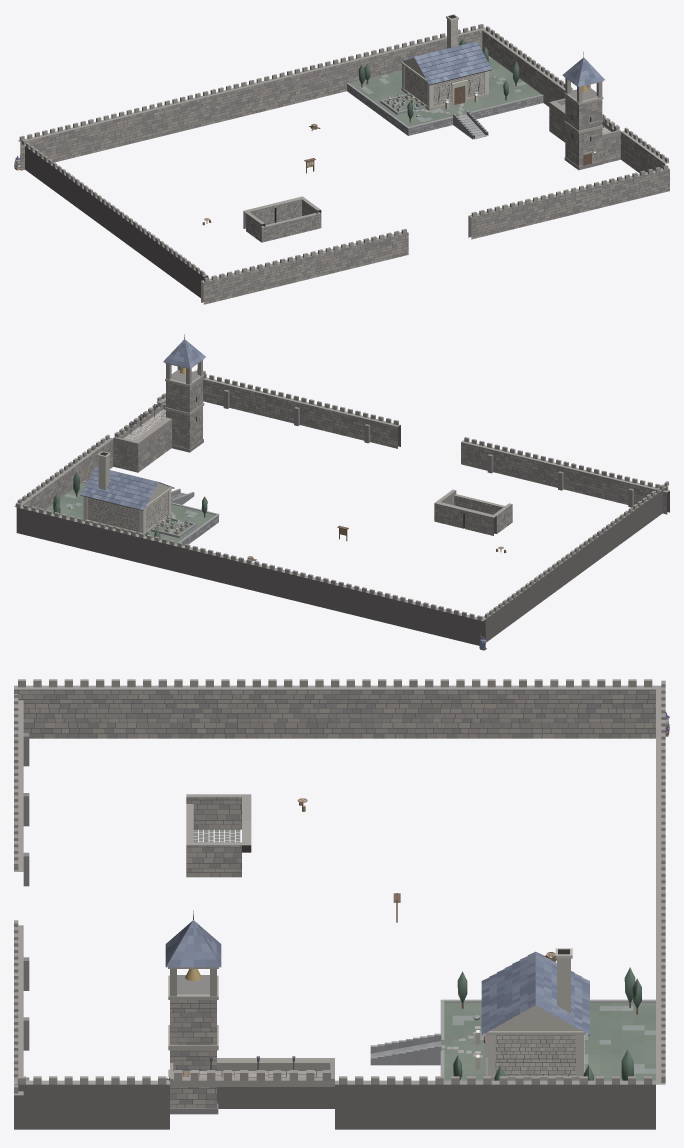
The model's file is barrios.glb.
3 renders of one model, top to bottom at view 1: azimuth 30°, elevation 25°; view 2: azimuth 150°, elevation 25°; view 3: azimuth 270°, elevation 25°, orthographic. The views are drawn at different scales.
Visible parts, largest first — view 1: muro_muralla_n, suelo_colina, edif_muralla_so, edif_muralla_se, muro_muralla_o, edif_crematorio, edif_torre, muro_muralla_e, muro_velas, edif_velas_sur, suelo_ronda, muro_subida (+2 smaller); view 2: muro_muralla_n, edif_muralla_se, edif_muralla_so, muro_muralla_o, edif_crematorio, edif_torre, suelo_colina, muro_muralla_e, suelo_ronda, muro_velas, muro_ronda_pretil, edif_velas_sur (+1 smaller); view 3: muro_muralla_o, muro_muralla_e, edif_crematorio, suelo_colina, edif_torre, muro_velas, muro_muralla_n, muro_ronda_pretil, suelo_ronda, edif_muralla_so, edif_muralla_se, muro_subida.
Boxes of the visible parts, bbox=[...] form: muro_muralla_n: bbox=[18, 24, 485, 170]; suelo_colina: bbox=[346, 38, 543, 135]; edif_muralla_so: bbox=[201, 229, 408, 304]; edif_muralla_se: bbox=[468, 165, 669, 239]; muro_muralla_o: bbox=[21, 139, 208, 297]; edif_crematorio: bbox=[398, 14, 492, 110]; edif_torre: bbox=[562, 52, 604, 170]; muro_muralla_e: bbox=[482, 26, 669, 173]; muro_velas: bbox=[243, 196, 321, 242]; edif_velas_sur: bbox=[261, 212, 321, 242]; suelo_ronda: bbox=[549, 104, 620, 163]; muro_subida: bbox=[453, 111, 488, 139]; muro_muralla_n: bbox=[14, 502, 485, 645]; edif_muralla_se: bbox=[203, 373, 400, 448]; edif_muralla_so: bbox=[461, 437, 669, 514]; muro_muralla_o: bbox=[482, 481, 669, 642]; edif_crematorio: bbox=[80, 451, 174, 535]; edif_torre: bbox=[163, 334, 205, 452]; suelo_colina: bbox=[44, 472, 219, 545]; muro_muralla_e: bbox=[17, 369, 205, 509]; suelo_ronda: bbox=[113, 409, 171, 472]; muro_velas: bbox=[434, 489, 512, 535]; muro_ronda_pretil: bbox=[113, 400, 171, 447]; edif_velas_sur: bbox=[454, 494, 504, 514]; muro_muralla_o: bbox=[14, 679, 655, 738]; muro_muralla_e: bbox=[14, 1076, 655, 1129]; edif_crematorio: bbox=[475, 948, 589, 1080]; suelo_colina: bbox=[440, 967, 655, 1080]; edif_torre: bbox=[165, 910, 221, 1114]; muro_velas: bbox=[186, 794, 251, 877]; muro_muralla_n: bbox=[656, 680, 665, 1084]; muro_ronda_pretil: bbox=[170, 1056, 334, 1086]; suelo_ronda: bbox=[173, 1071, 334, 1108]; edif_muralla_so: bbox=[14, 694, 29, 886]; edif_muralla_se: bbox=[14, 920, 29, 1095]; muro_subida: bbox=[370, 1033, 441, 1065].
Size of the model in its own units: 80.46 by 18.19 by 55.59.
